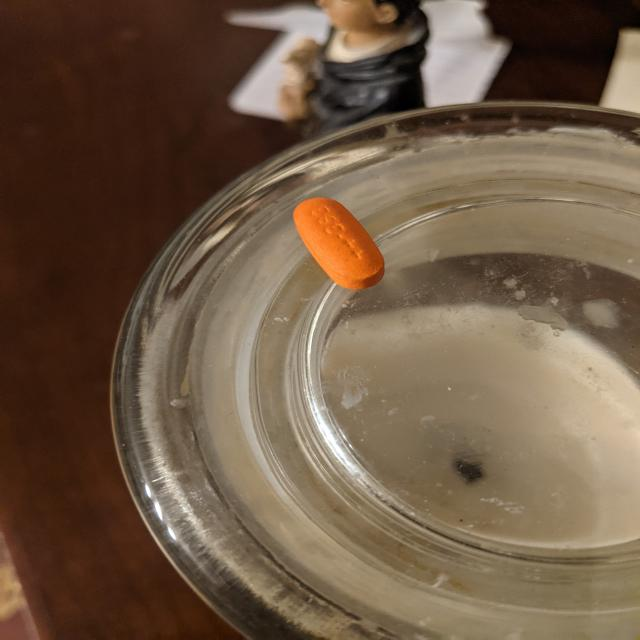non-organic waste: (291, 196, 387, 291)
